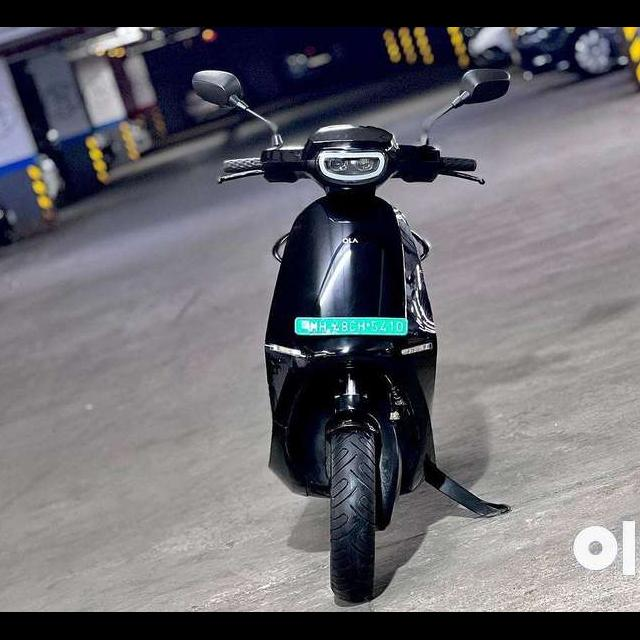Indian_Number_Plate: (297, 318, 406, 335)
